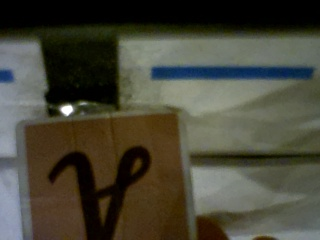A: (24, 112, 192, 240)
